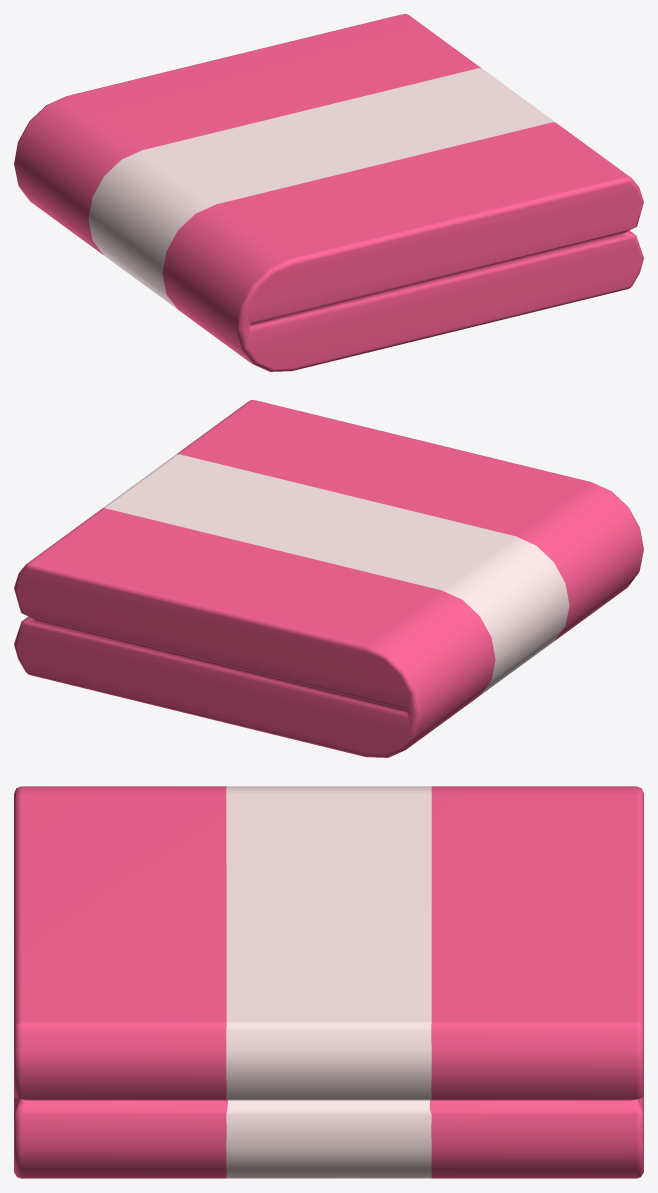
The model's file is Public_19_Fabric_7.glb.
3 renders of one model, top to bottom at view 1: azimuth 30°, elevation 25°; view 2: azimuth 150°, elevation 25°; view 3: azimuth 270°, elevation 25°, orthographic. The views are drawn at different scales.
Parts seen in each view (by area): view 1: Public_19_Fabric_7; view 2: Public_19_Fabric_7; view 3: Public_19_Fabric_7.
Boxes of the visible parts, bbox=[...] form: Public_19_Fabric_7: bbox=[14, 14, 643, 371]; Public_19_Fabric_7: bbox=[14, 400, 643, 757]; Public_19_Fabric_7: bbox=[14, 786, 643, 1178].
Bounding box in the file's own units: 0.9385 × 0.2481 × 0.9069.
1 material, 1 textured.
